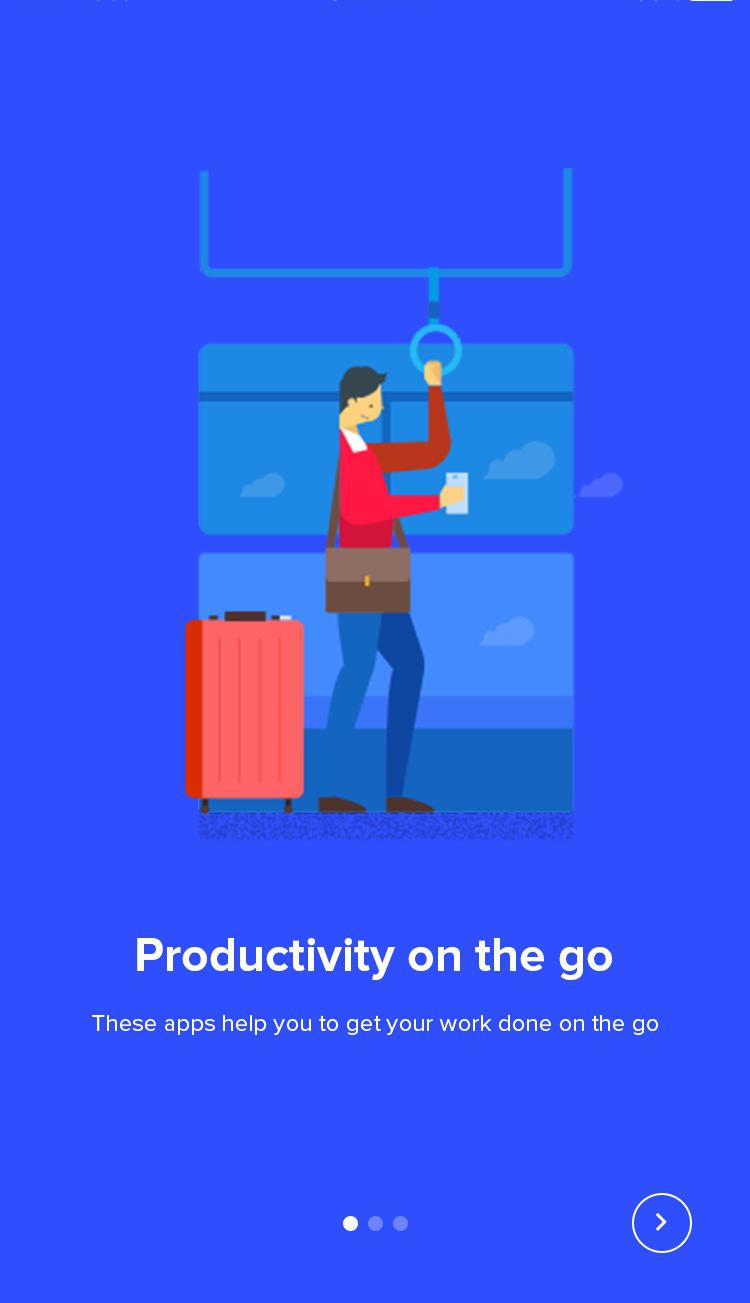Icon: (631, 1192, 693, 1254)
Image: (182, 168, 626, 840)
PageIndicator: (341, 1214, 410, 1234)
Text: (136, 936, 614, 982), (91, 1013, 659, 1038)
